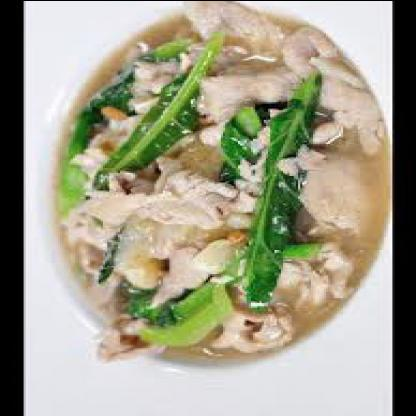Laadna: (30, 4, 390, 368)
